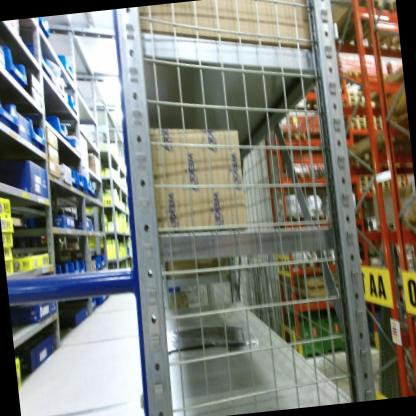pallet: (323, 0, 398, 55), (279, 170, 341, 232), (330, 66, 364, 90), (368, 212, 401, 236), (275, 208, 309, 231), (297, 91, 328, 111), (386, 100, 407, 128), (369, 172, 393, 195), (285, 131, 308, 147), (346, 122, 367, 136), (357, 185, 377, 197), (402, 214, 416, 231), (356, 172, 373, 186), (348, 118, 368, 128), (346, 91, 364, 102), (348, 95, 364, 106), (369, 109, 385, 120), (350, 111, 367, 119), (357, 180, 376, 187), (394, 182, 410, 190), (370, 119, 384, 128), (393, 174, 407, 183), (348, 101, 363, 108)
